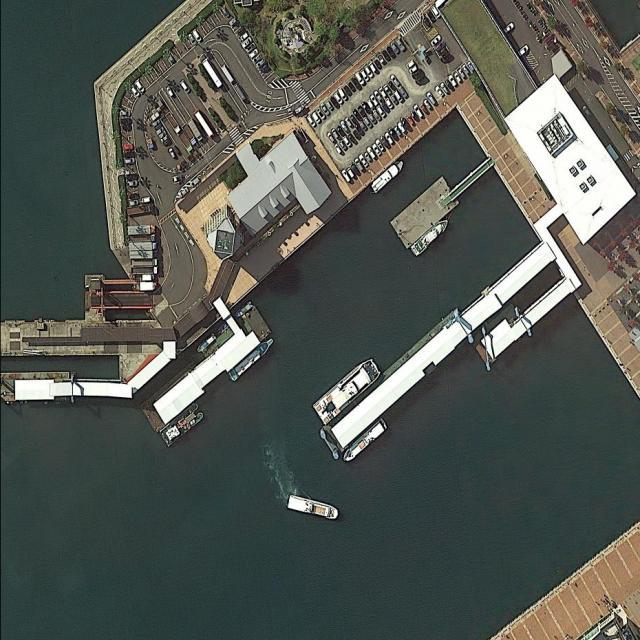Cargo: (286, 493, 340, 520)
Other Ship: (309, 354, 385, 425), (228, 335, 277, 382), (158, 402, 207, 447)
Yacht: (341, 418, 389, 462), (407, 215, 454, 257), (368, 159, 407, 195)
